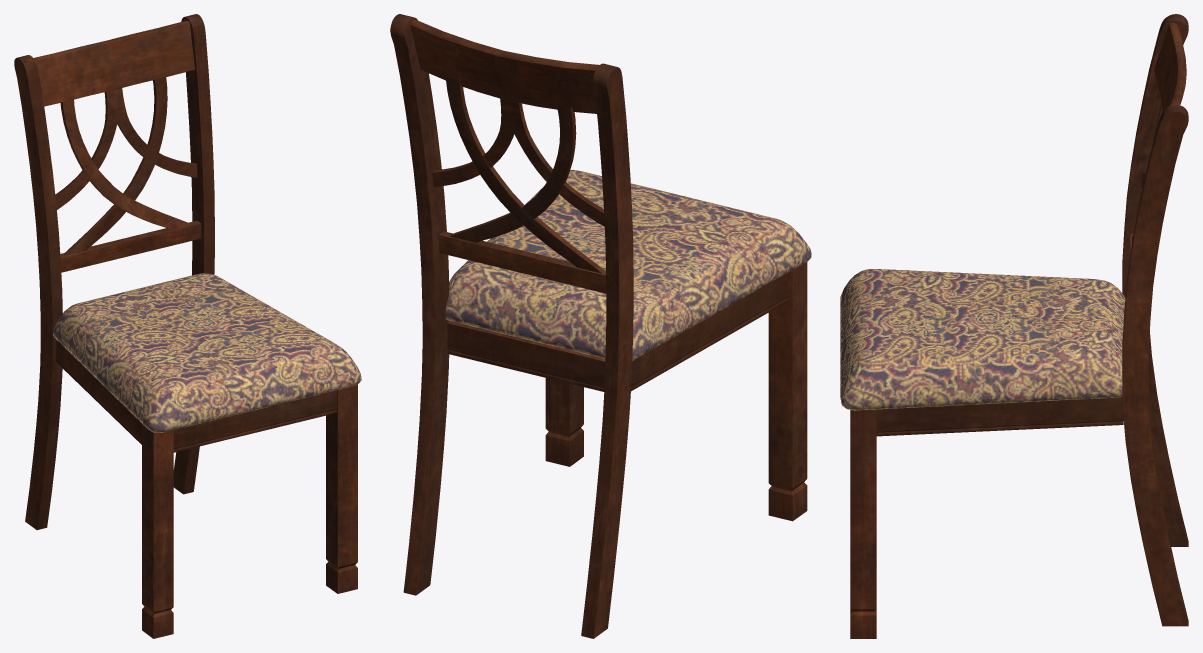
Rendered from B00EUL2B16.glb.
The picture shows the model from 3 angles, left to right: view 1: azimuth 30°, elevation 25°; view 2: azimuth 150°, elevation 25°; view 3: azimuth 270°, elevation 25°; orthographic projection. The views are drawn at different scales.
Visible parts, largest first — view 1: B00EUL2B16; view 2: B00EUL2B16; view 3: B00EUL2B16.
Part boxes in pixels (box(x1,y1,x2,y2)): B00EUL2B16: box(14, 14, 361, 638); B00EUL2B16: box(390, 14, 811, 638); B00EUL2B16: box(840, 14, 1188, 638).
Size of the model in its own units: 0.4572 by 0.9652 by 0.5842.
Materials: 1 (1 with a texture image).
